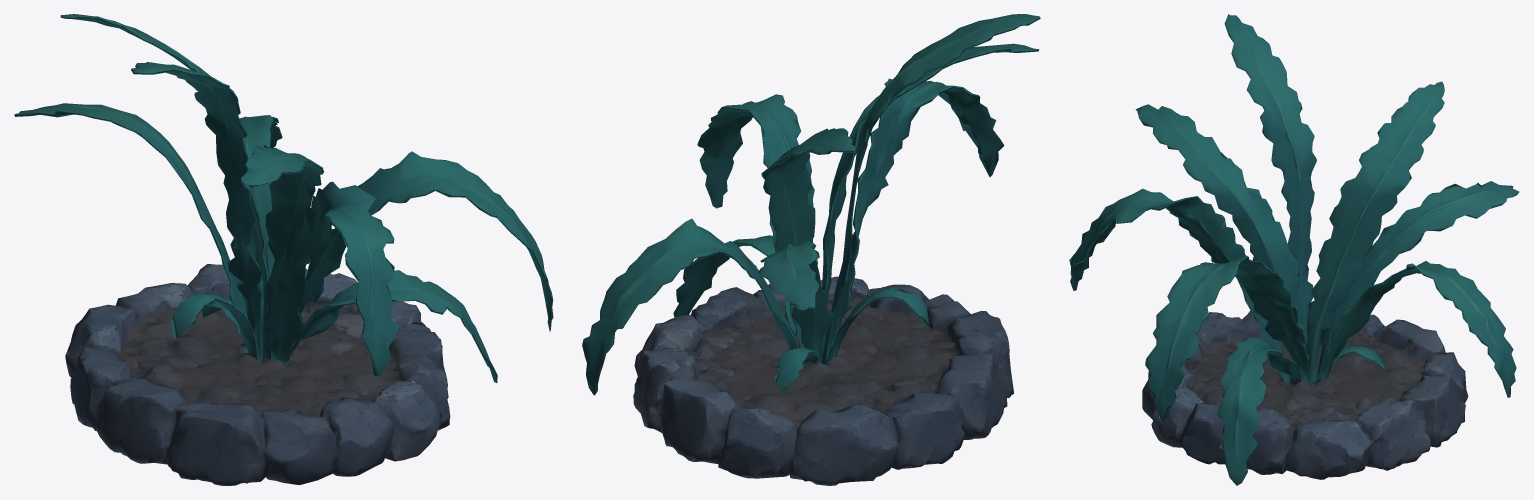
File: cereus.glb
3 views of the same model, side by side, from view 1: azimuth 30°, elevation 25°; view 2: azimuth 150°, elevation 25°; view 3: azimuth 270°, elevation 25° (orthographic). The views are drawn at different scales.
Visible parts, largest first — view 1: tripo_node_24d90065-6acb-45b8-b4de-b59ecb347eae; view 2: tripo_node_24d90065-6acb-45b8-b4de-b59ecb347eae; view 3: tripo_node_24d90065-6acb-45b8-b4de-b59ecb347eae.
Boxes of the visible parts, x1,y1,x2,y2 form: tripo_node_24d90065-6acb-45b8-b4de-b59ecb347eae: [14, 14, 553, 485]; tripo_node_24d90065-6acb-45b8-b4de-b59ecb347eae: [582, 14, 1040, 485]; tripo_node_24d90065-6acb-45b8-b4de-b59ecb347eae: [1069, 14, 1519, 485].
Bounding box in the file's own units: 0.3872 × 0.4 × 0.4906.
1 material, 1 textured.
